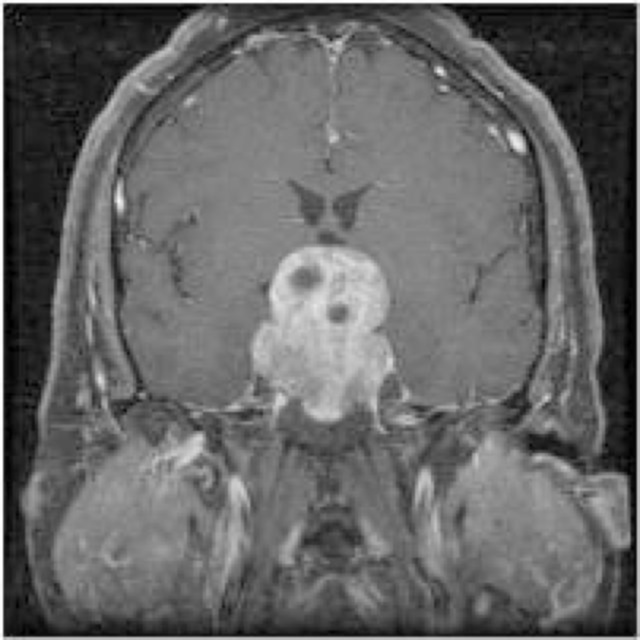no tumor: (231, 225, 399, 431)
